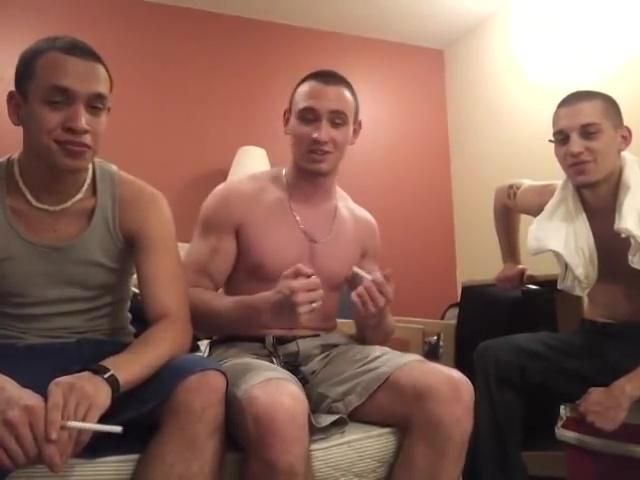cigarette: (59, 417, 126, 433), (352, 266, 375, 281)
